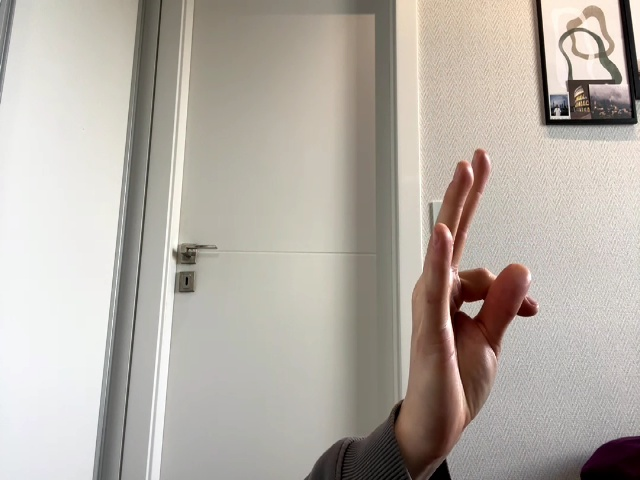T: (411, 149, 539, 422)
